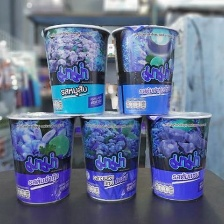paper_cup: (37, 20, 114, 119), (3, 108, 78, 208), (106, 21, 182, 119), (74, 108, 148, 205), (143, 107, 214, 204)
